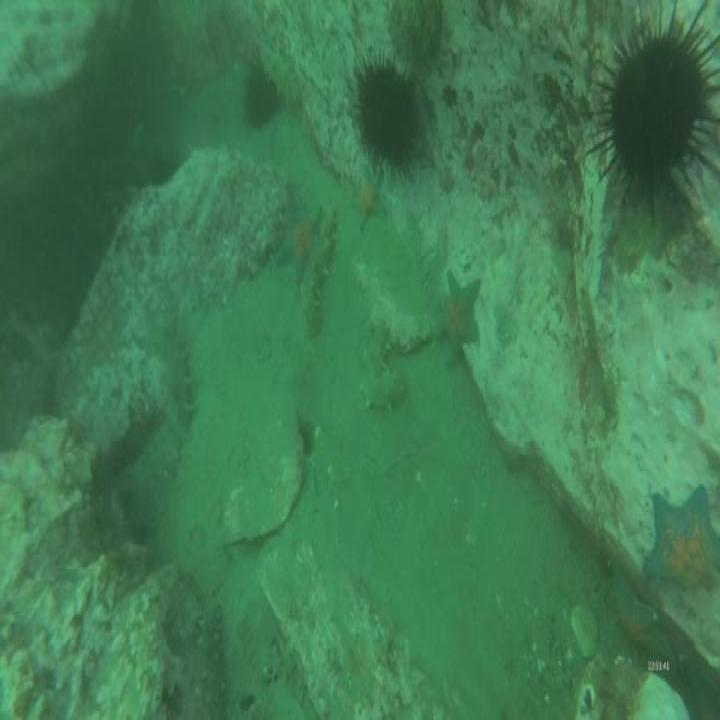echinus: (602, 30, 719, 185), (354, 62, 423, 172), (247, 69, 279, 123)
holothurian: (157, 329, 196, 485), (303, 203, 336, 336), (361, 325, 407, 411), (199, 608, 225, 720)
starfish: (644, 487, 717, 596), (439, 276, 480, 362), (277, 208, 319, 281), (351, 176, 386, 228)
